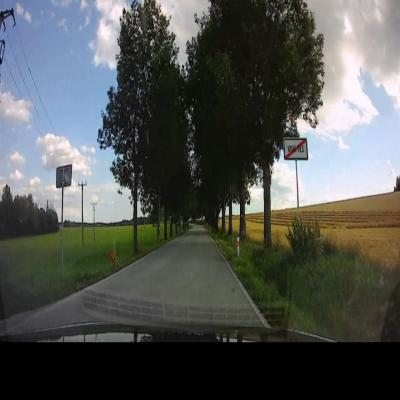clear-road: (96, 226, 262, 321)
